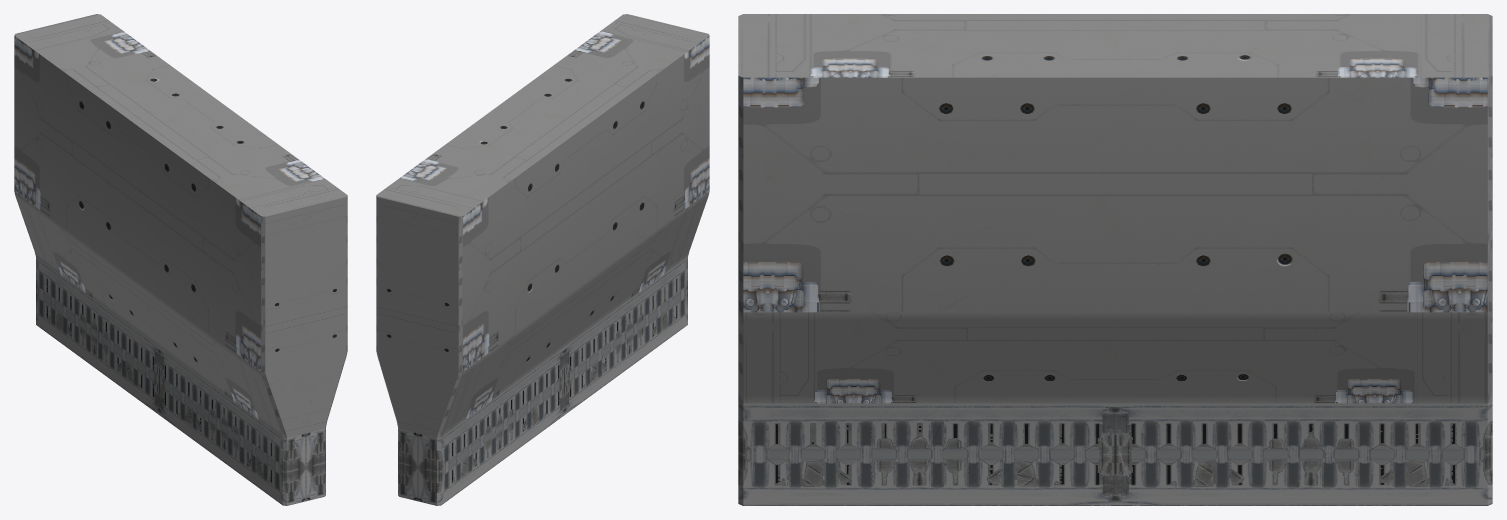
Rendered from SM_Wallup03.fbx.
The picture shows the model from 3 angles, left to right: view 1: azimuth 30°, elevation 25°; view 2: azimuth 150°, elevation 25°; view 3: azimuth 270°, elevation 25°; orthographic projection. The views are drawn at different scales.
Parts seen in each view (by area): view 1: SM_Wallup03_LOD0; view 2: SM_Wallup03_LOD0; view 3: SM_Wallup03_LOD0.
Part boxes in pixels (box(x1,y1,x2,y2)): SM_Wallup03_LOD0: box(14, 14, 347, 505); SM_Wallup03_LOD0: box(376, 14, 709, 505); SM_Wallup03_LOD0: box(738, 14, 1492, 505).
Bounding box in the file's own units: 80 × 400 × 260.
Materials: 2 (2 with a texture image).
